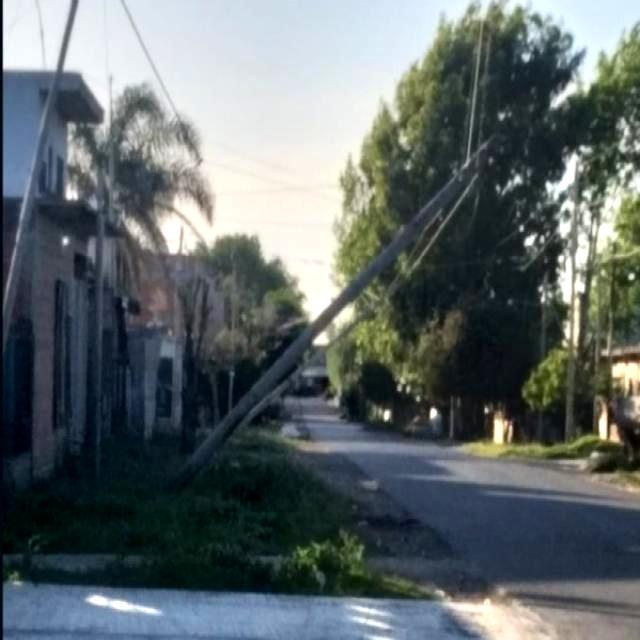Broken Pole: (169, 133, 502, 487)
